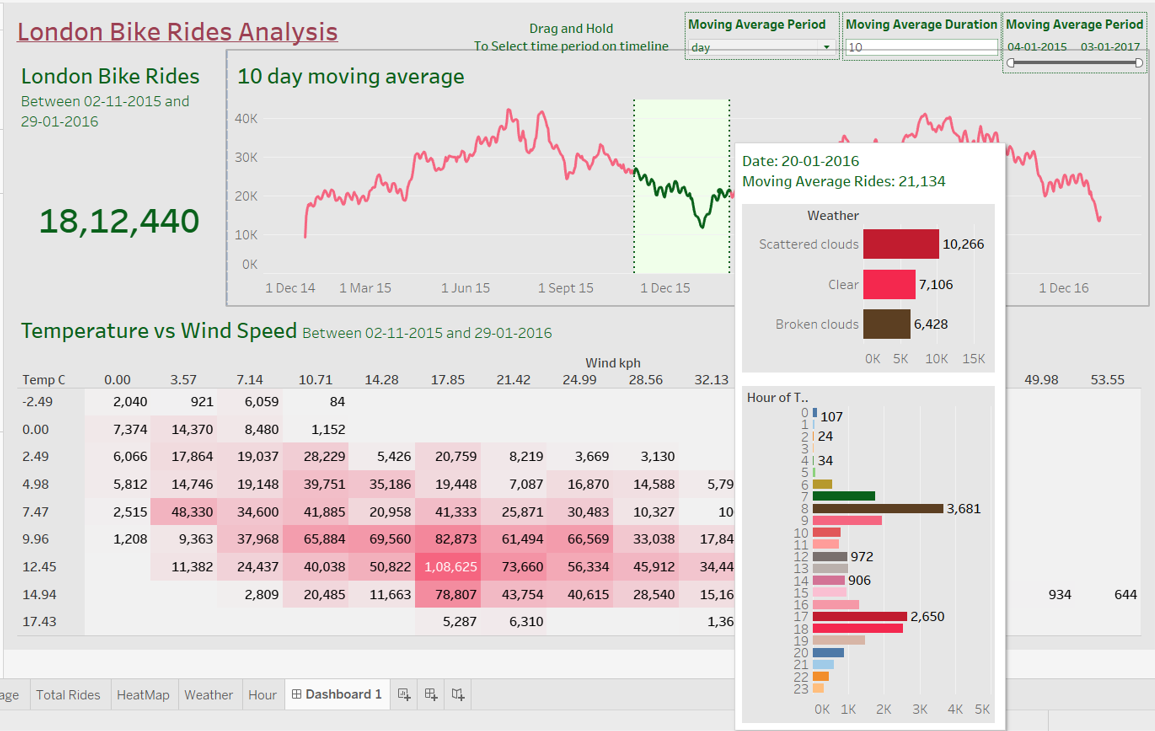

The page's visual inventory and layout, read from the dashboard file:
{"tool":"tableau","page":{"name":"Dashboard 1","canvas":[1366,768],"ordinal":0},"visuals":[{"type":"title","box":[8,8,1350,49]},{"type":"parameter","param":"[Parameters].[Parameter 1]","box":[808,11,184,57]},{"type":"parameter","param":"[Parameters].[Parameter 2]","box":[995,11,189,58]},{"type":"filter","title":"Moving Average","param":"[federated.009aq2s0qbhtbi12j41ha05el5rv].[none:Calculation_1534601616478445568:q","box":[1185,11,172,73]},{"type":"text","box":[547,13,253,56]},{"type":"worksheet","title":"Total Rides","mark":"Automatic","box":[8,57,257,301.9]},{"type":"worksheet","title":"Moving Average","mark":"Automatic","rows":["Calculation1"],"cols":["Calculation_1534601616478445568"],"box":[265,57,1093,301.9]},{"type":"worksheet","title":"HeatMap","mark":"Square","rows":["temp real C (bin)"],"cols":["Wind Speed Kph (bin)"],"box":[8,358.9,1350,401]}]}

Visuals, with their boxes on the page's 1366x768 design canvas (x1, y1, x2, y2). These are canvas units, not pixel positions in the 1155x731 screenshot, which may show the page scaled, cropped or inside an application window:
title: left=8, top=8, right=1358, bottom=57
parameter: left=808, top=11, right=992, bottom=68
parameter: left=995, top=11, right=1184, bottom=69
"Moving Average" filter: left=1185, top=11, right=1357, bottom=84
text: left=547, top=13, right=800, bottom=69
"Total Rides" worksheet: left=8, top=57, right=265, bottom=359
"Moving Average" worksheet: left=265, top=57, right=1358, bottom=359
"HeatMap" worksheet (Square marks): left=8, top=359, right=1358, bottom=760
